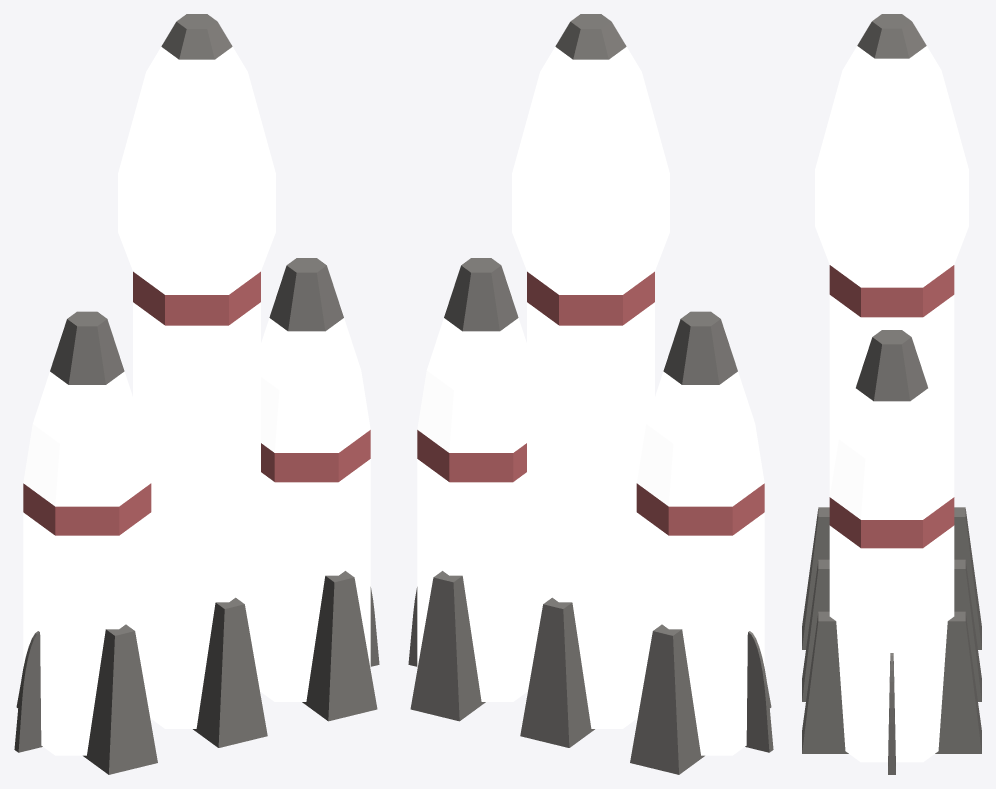
The model's file is portfolio-rocketfinal.glb.
3 renders of one model, left to right at view 1: azimuth 30°, elevation 25°; view 2: azimuth 150°, elevation 25°; view 3: azimuth 270°, elevation 25°, orthographic. The views are drawn at different scales.
Parts seen in each view (by area): view 1: Circle.001, Circle, Plane.001, Plane, Plane.006; view 2: Circle.001, Circle, Plane.001, Plane, Plane.006; view 3: Circle, Circle.001, Plane.001, Plane, Plane.006.
Part boxes in pixels (x1,y1,x2,y2): Circle.001: (23,258,370,755); Circle: (118,14,275,728); Plane.001: (16,571,377,774); Plane: (193,597,267,747); Plane.006: (14,587,379,752); Circle.001: (417,258,764,755); Circle: (512,14,669,728); Plane.001: (410,571,771,774); Plane: (520,597,594,747); Plane.006: (408,587,773,752); Circle: (815,14,968,495); Circle.001: (829,330,954,762); Plane.001: (802,507,981,753); Plane: (802,559,981,701); Plane.006: (888,653,895,774).
Size of the model in its own units: 6.52 by 11.85 by 2.89.
